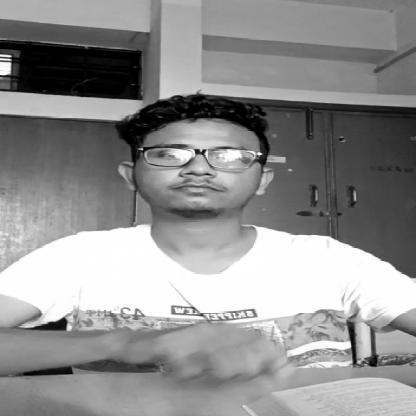Normal: (115, 114, 286, 228)
